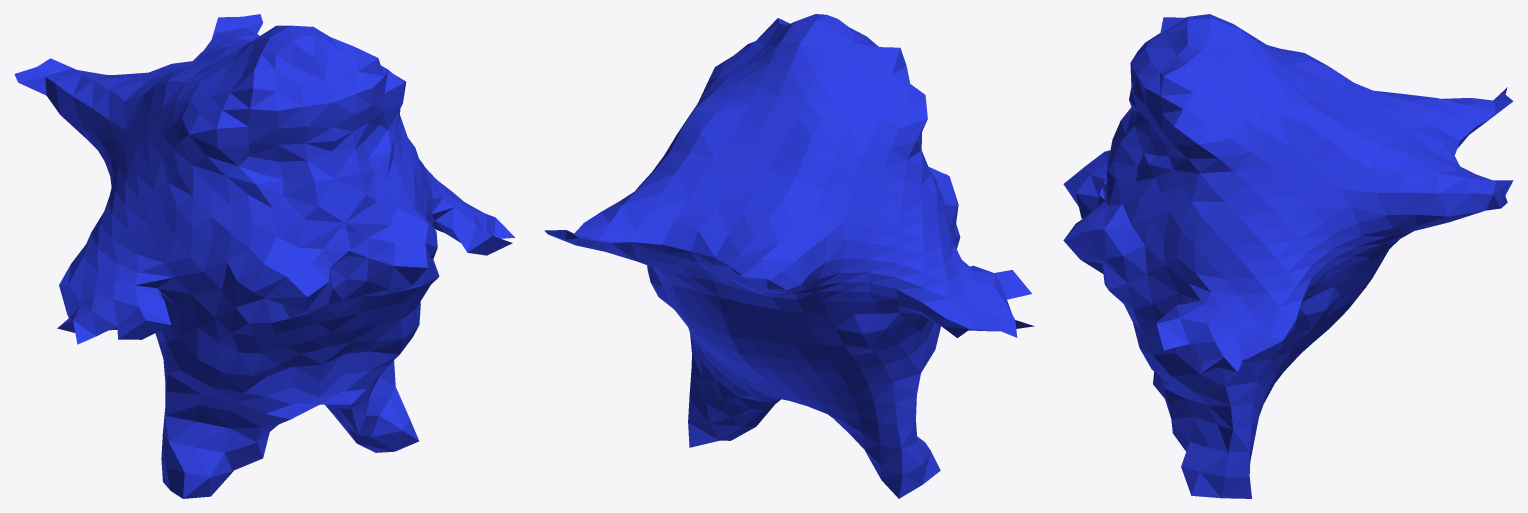
Rendered from monster.dae.
3 renders of one model, left to right at view 1: azimuth 30°, elevation 25°; view 2: azimuth 150°, elevation 25°; view 3: azimuth 270°, elevation 25°, orthographic. The views are drawn at different scales.
Parts seen in each view (by area): view 1: Quad Sphere; view 2: Quad Sphere; view 3: Quad Sphere.
Part boxes in pixels (x1,y1,x2,y2): Quad Sphere: [14, 14, 515, 498]; Quad Sphere: [544, 14, 1034, 498]; Quad Sphere: [1063, 14, 1513, 498].
Bounding box in the file's own units: 1.75 × 1.61 × 1.7.
